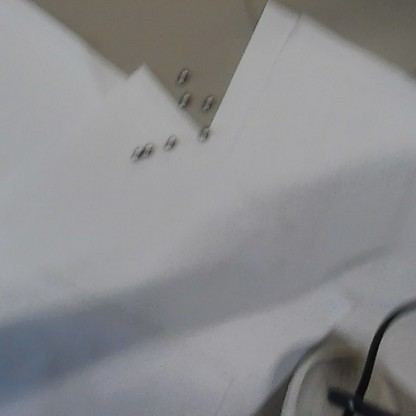ironball: (174, 65, 192, 85), (201, 90, 216, 113), (193, 125, 211, 143), (127, 145, 144, 163), (138, 138, 152, 157), (177, 90, 191, 108), (163, 135, 177, 152)
